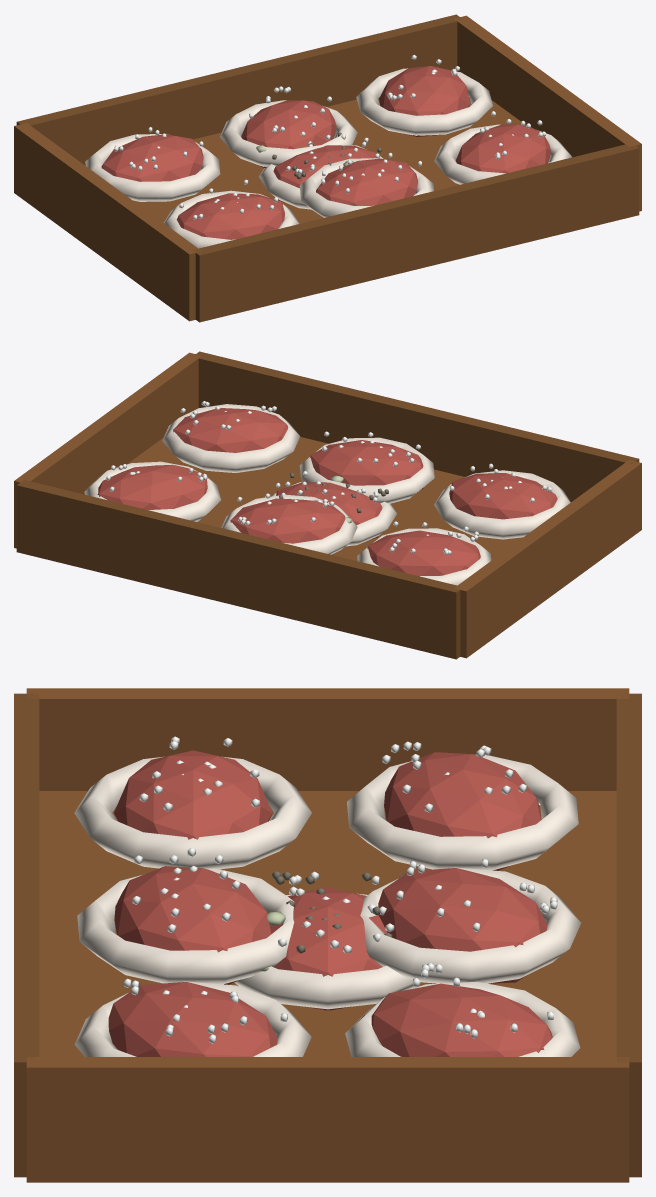
File: Proc_SaltedMeat.fbx
3 views of the same model, one above another, from view 1: azimuth 30°, elevation 25°; view 2: azimuth 150°, elevation 25°; view 3: azimuth 270°, elevation 25° (orthographic). The views are drawn at different scales.
Parts seen in each view (by area): view 1: Proc_SaltedMeat__Stack, Proc_SaltedMeat; view 2: Proc_SaltedMeat__Stack, Proc_SaltedMeat; view 3: Proc_SaltedMeat__Stack, Proc_SaltedMeat, Proc_SaltedMeat__Rotten.
Boxes of the visible parts, x1,y1,x2,y2 form: Proc_SaltedMeat__Stack: (14, 14, 641, 322); Proc_SaltedMeat: (259, 134, 383, 209); Proc_SaltedMeat__Stack: (14, 351, 641, 659); Proc_SaltedMeat: (271, 471, 396, 546); Proc_SaltedMeat__Stack: (14, 688, 641, 1182); Proc_SaltedMeat: (234, 871, 421, 1010); Proc_SaltedMeat__Rotten: (260, 871, 406, 971).
Bounding box in the file's own units: 0.283 × 0.04 × 0.198.
